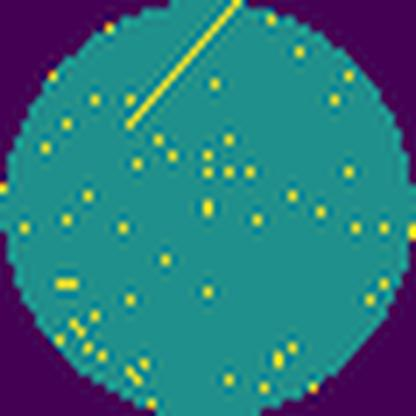Scratch: (120, 0, 245, 129)
